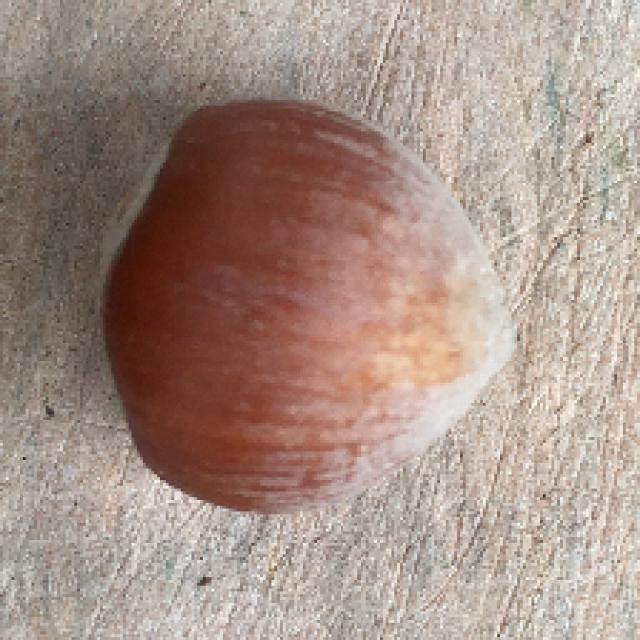qualityHazelnut: (74, 86, 524, 519)
